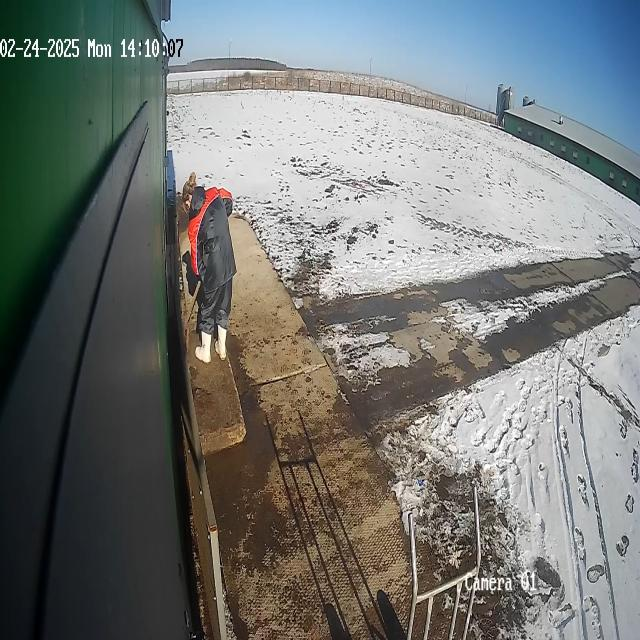Red uniform: (182, 183, 238, 366)
